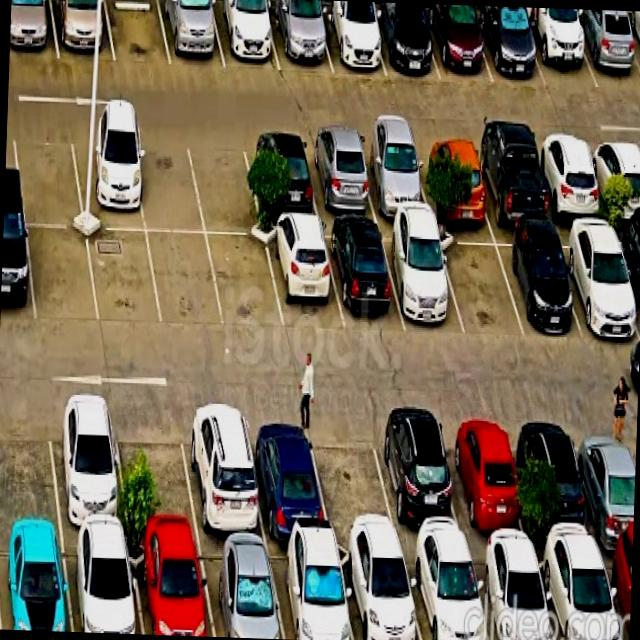empty: (308, 412, 399, 544), (113, 401, 199, 537), (436, 230, 523, 336), (0, 398, 60, 530), (186, 132, 262, 235), (87, 229, 161, 328), (147, 232, 224, 327), (12, 124, 84, 225), (132, 130, 204, 231), (207, 236, 283, 330), (27, 226, 99, 323), (105, 0, 171, 65)
occupied: (370, 414, 467, 546), (439, 413, 529, 549), (180, 404, 266, 539), (244, 408, 330, 539), (46, 397, 128, 533), (516, 414, 599, 548), (554, 227, 640, 337), (379, 225, 464, 334), (492, 230, 580, 335), (197, 540, 284, 639), (264, 222, 343, 331), (323, 223, 404, 328), (571, 416, 635, 548), (128, 537, 213, 636), (267, 543, 353, 640), (337, 544, 421, 640), (402, 548, 489, 640), (469, 547, 555, 640), (63, 533, 142, 634), (535, 548, 621, 640), (69, 127, 145, 230), (0, 533, 72, 632), (471, 139, 551, 225), (414, 138, 491, 221), (243, 134, 319, 218), (302, 134, 377, 217), (356, 135, 431, 217), (521, 9, 597, 88), (533, 139, 606, 220), (474, 5, 545, 85), (569, 10, 640, 89), (423, 3, 492, 82), (368, 5, 439, 79), (316, 4, 386, 75), (210, 0, 280, 70), (267, 2, 332, 71), (159, 0, 224, 68), (586, 139, 640, 220), (50, 0, 114, 60), (0, 220, 35, 322), (599, 548, 632, 640), (9, 0, 58, 58), (612, 227, 640, 326), (622, 13, 640, 64)
